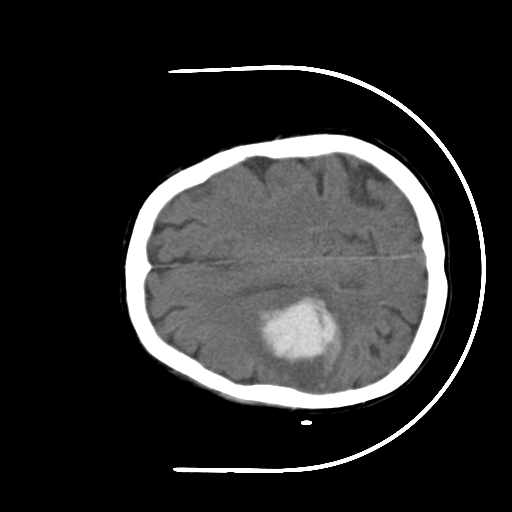a: (230, 275, 355, 400)
